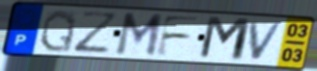F: (153, 14, 203, 59)
M: (196, 15, 253, 64), (112, 12, 165, 60)
Q: (38, 8, 79, 54)
V: (248, 21, 287, 62)
Z: (71, 9, 122, 55)
